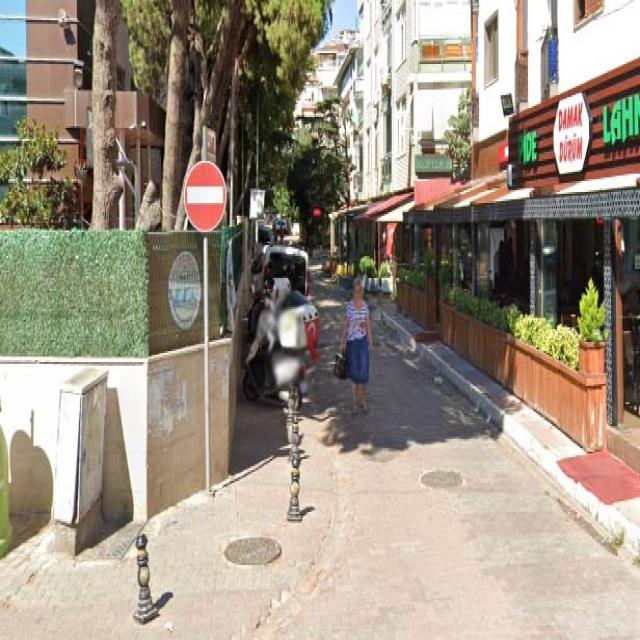girisyok: (183, 163, 226, 232)
